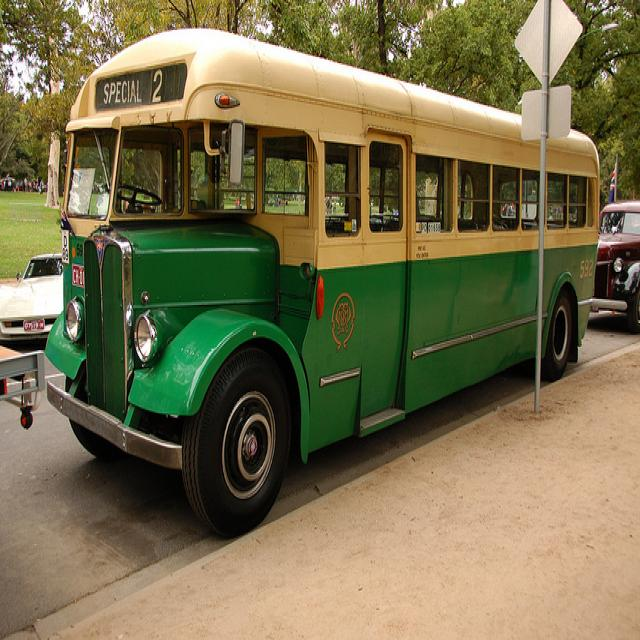Vehicle: (44, 21, 599, 540), (588, 199, 640, 334), (0, 250, 64, 342)
